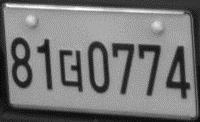0: (86, 39, 111, 93)
1: (33, 37, 59, 91)
4: (165, 45, 191, 100)
7: (137, 43, 162, 96), (111, 42, 135, 95)
8: (9, 36, 33, 88)
더: (58, 48, 83, 93)
